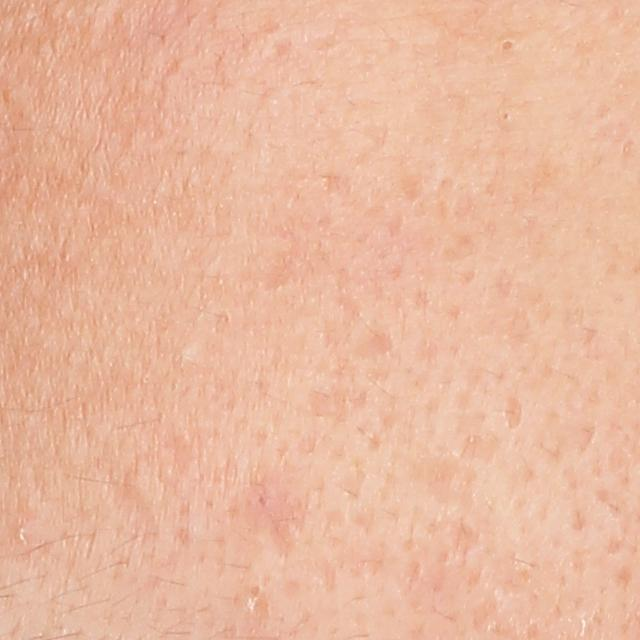atrophic_scar: (236, 478, 301, 576), (407, 452, 465, 507), (305, 380, 372, 422), (446, 516, 484, 566), (345, 329, 393, 359), (501, 388, 524, 432)
comedo: (174, 345, 197, 368), (243, 592, 264, 616), (495, 35, 521, 54), (15, 524, 34, 545), (496, 108, 514, 122)
